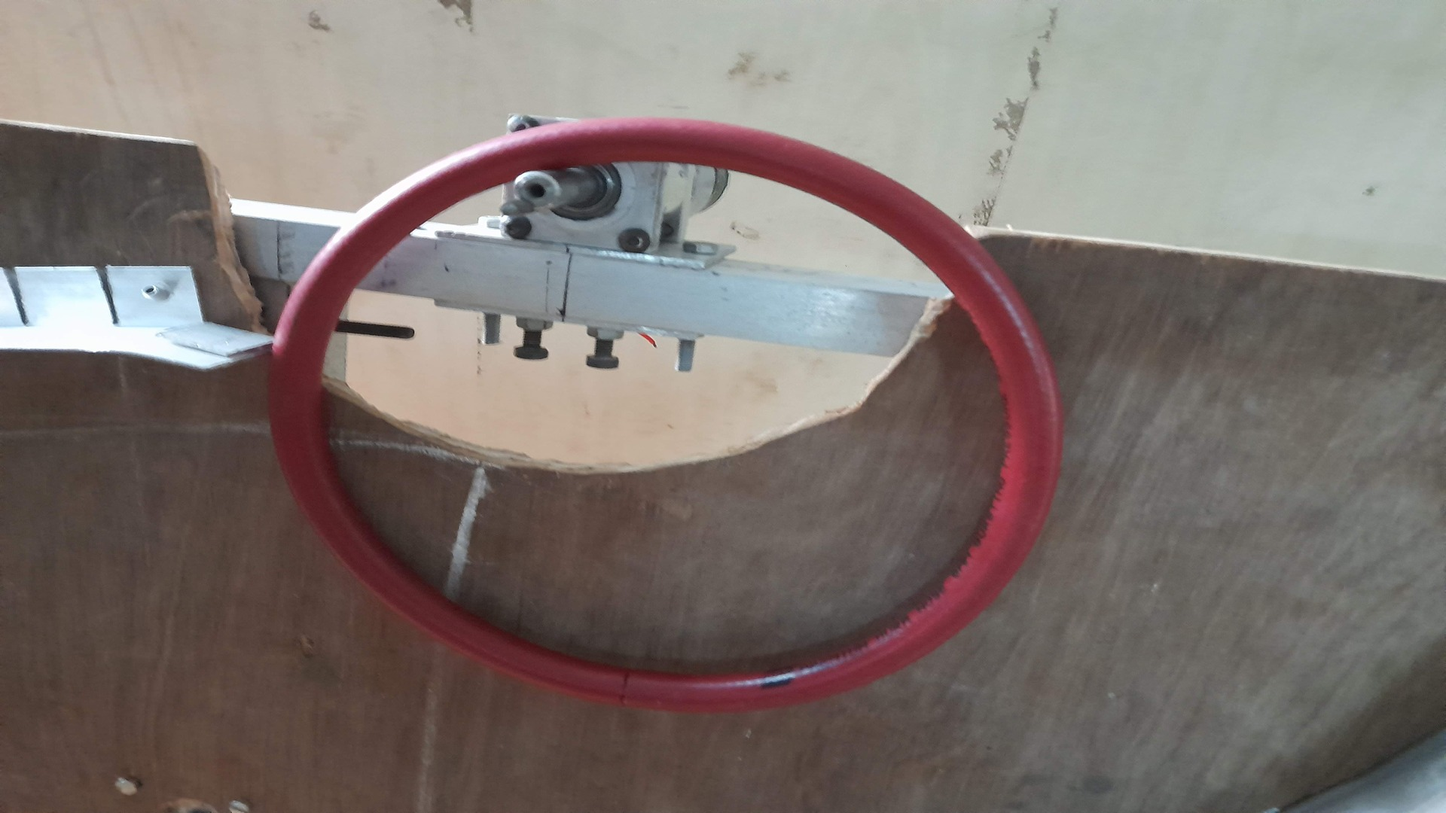Red ring: (272, 120, 1060, 714)
